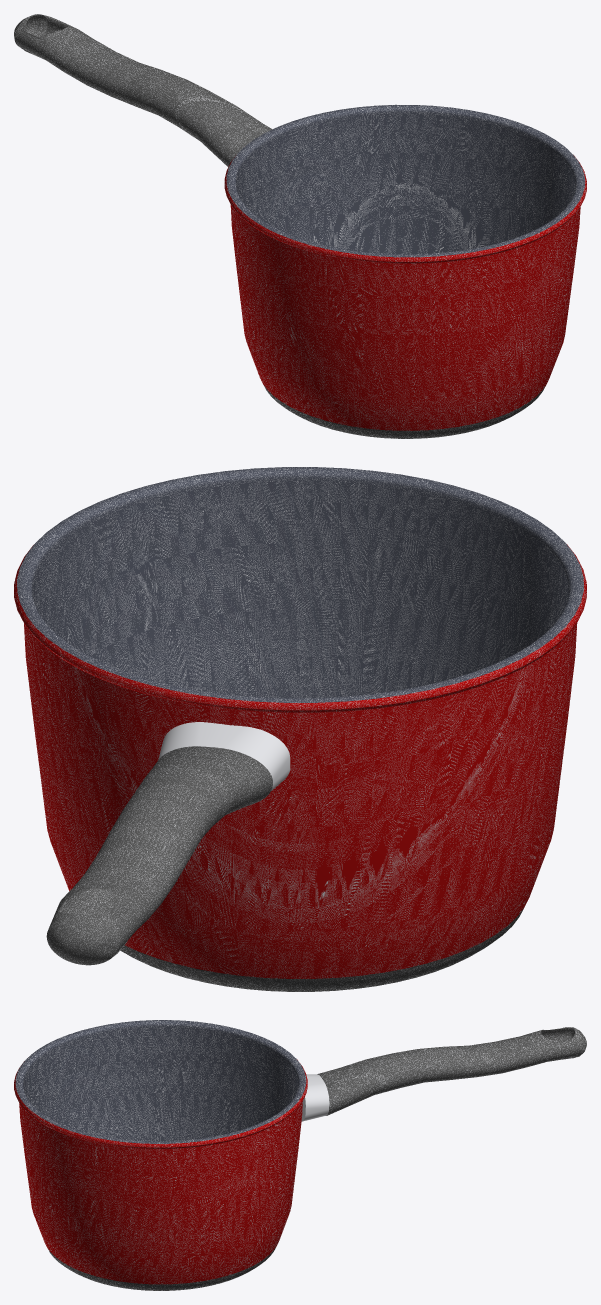
The model's file is saucepan.dae.
The picture shows the model from 3 angles, top to bottom: view 1: azimuth 30°, elevation 25°; view 2: azimuth 150°, elevation 25°; view 3: azimuth 270°, elevation 25°; orthographic projection. The views are drawn at different scales.
Parts seen in each view (by area): view 1: instance_1; view 2: instance_1; view 3: instance_1.
Boxes of the visible parts, bbox=[...] form: instance_1: bbox=[14, 14, 586, 438]; instance_1: bbox=[14, 467, 586, 991]; instance_1: bbox=[14, 1020, 586, 1290].
Size of the model in its own units: 62.57 by 122 by 40.25.
